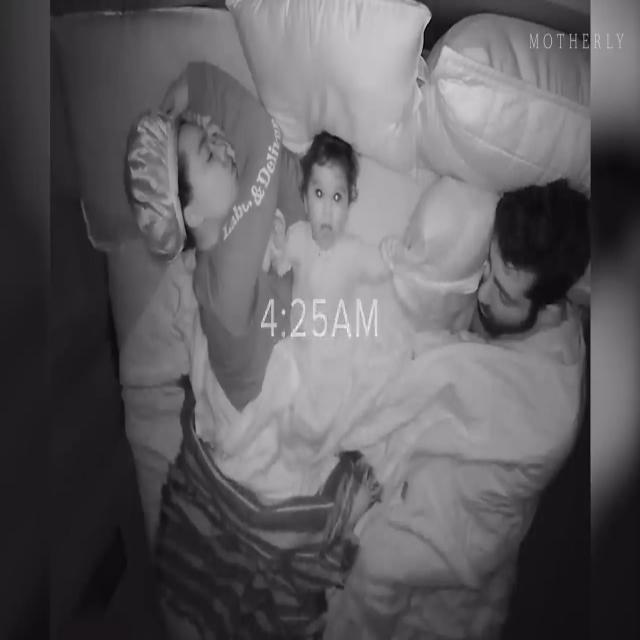baby: (269, 128, 392, 319)
